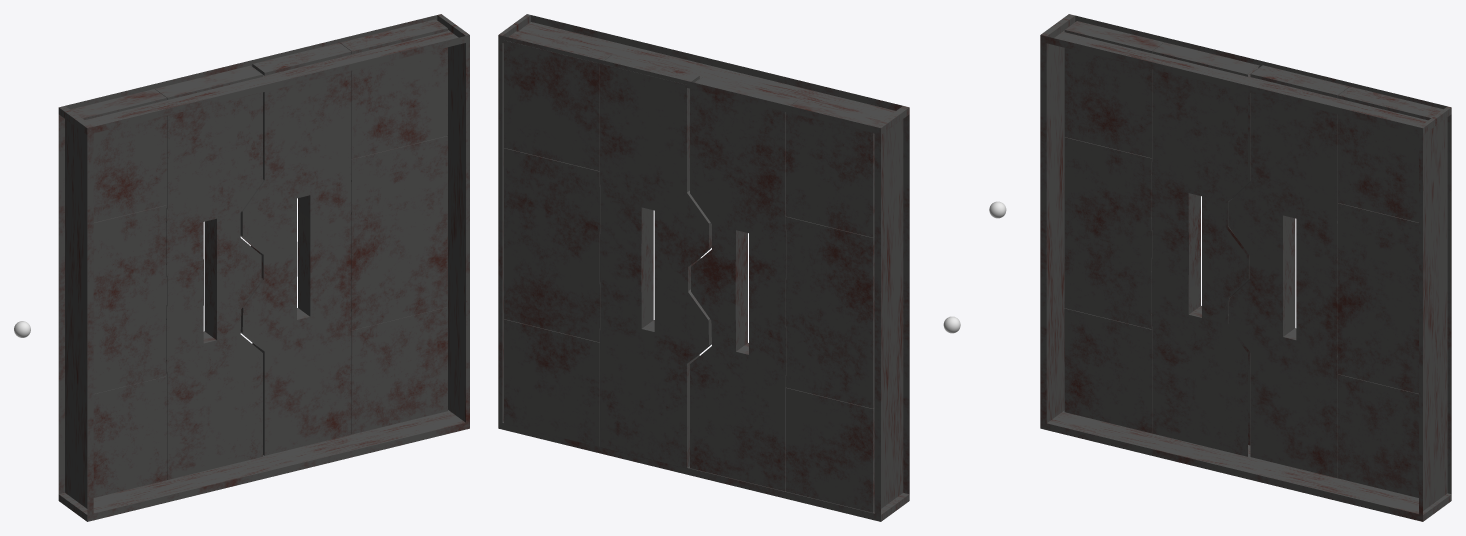
Rendered from safe door.fbx.
3 views of the same model, side by side, from view 1: azimuth 30°, elevation 25°; view 2: azimuth 150°, elevation 25°; view 3: azimuth 330°, elevation 25° (orthographic).
Visible parts, largest first — view 1: Plane.002, Plane.001, Cube; view 2: Plane.002, Plane.001, Cube; view 3: Plane.001, Plane.002, Cube.
Part boxes in pixels (box(x1,y1,x2,y2)): Plane.002: box(240, 19, 447, 455); Plane.001: box(70, 65, 262, 497); Cube: box(58, 14, 469, 521); Plane.002: box(504, 31, 711, 468); Plane.001: box(690, 77, 881, 512); Cube: box(498, 14, 909, 521); Plane.001: box(1064, 21, 1259, 456); Plane.002: box(1228, 65, 1442, 497); Cube: box(1040, 14, 1451, 521).
Size of the model in its own units: 1211 by 1027 by 136.
